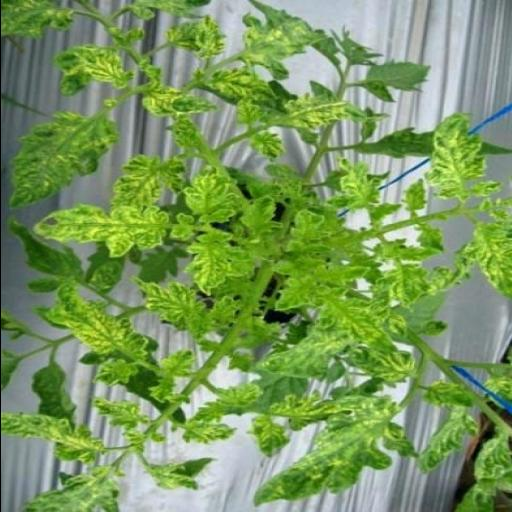disease_tomato: (250, 401, 417, 508), (4, 109, 124, 211), (46, 276, 152, 362), (30, 204, 172, 258), (238, 0, 330, 81), (128, 274, 216, 340), (0, 412, 110, 464), (420, 111, 486, 189), (460, 220, 512, 302), (416, 416, 484, 478), (22, 470, 122, 512), (183, 166, 241, 224), (339, 346, 415, 390), (184, 232, 232, 298), (65, 44, 133, 90), (163, 13, 228, 61), (0, 0, 77, 40), (274, 90, 350, 130), (335, 155, 384, 213), (140, 86, 220, 118), (244, 416, 294, 458), (420, 382, 480, 409)
